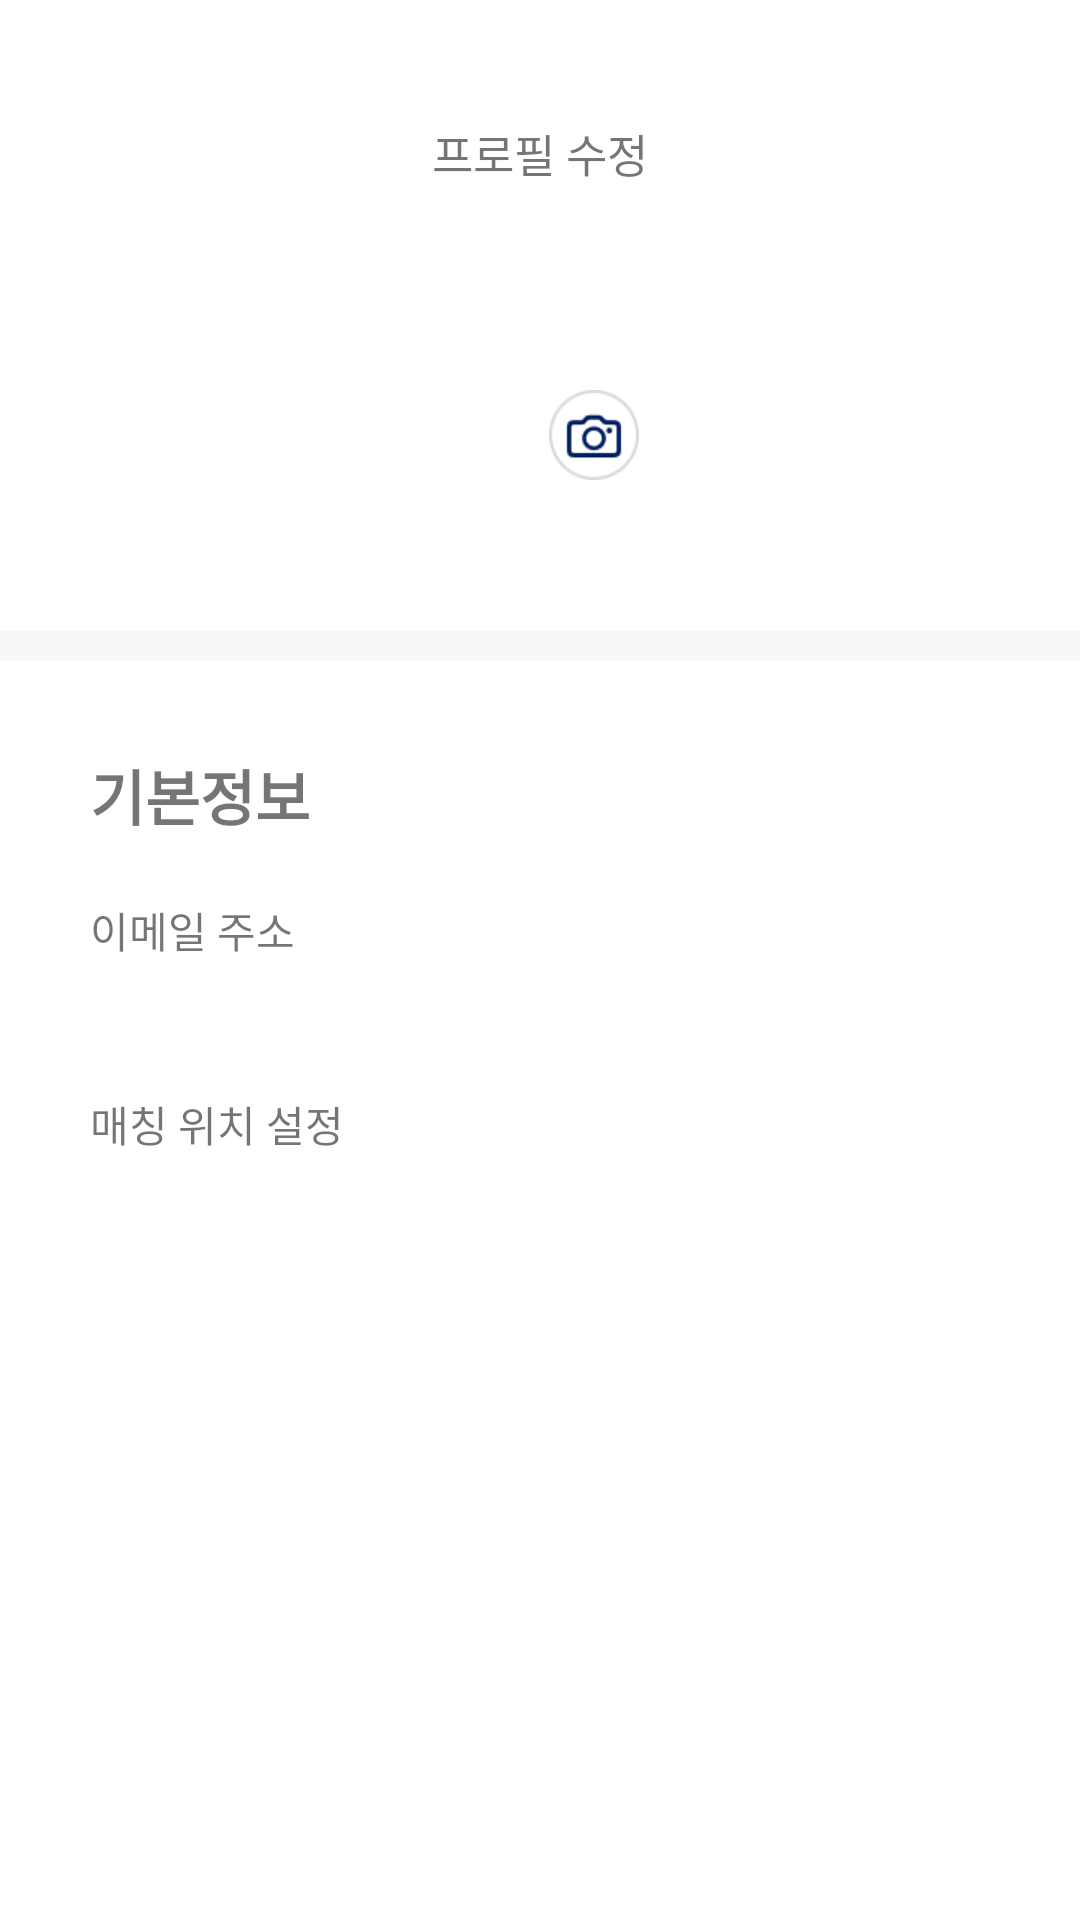

Named icons in this screenshot (1080×1920) and their centers, point (x, y):
camera: point (594, 435)
